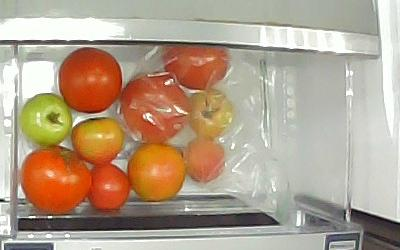tomato: (21, 145, 91, 214), (59, 47, 123, 114), (128, 144, 186, 202), (19, 93, 72, 147), (71, 117, 124, 164), (89, 164, 132, 212)
tomato_vinyl: (121, 73, 189, 144), (161, 45, 230, 90), (188, 89, 234, 140), (184, 136, 227, 184)
